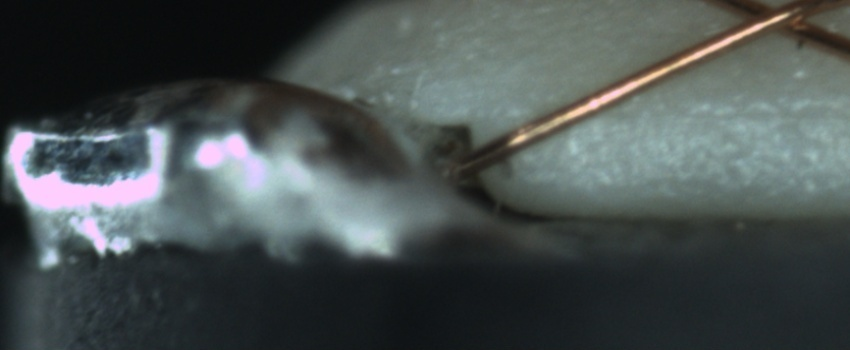CL: (714, 1, 831, 43)
DL: (607, 81, 849, 146)
